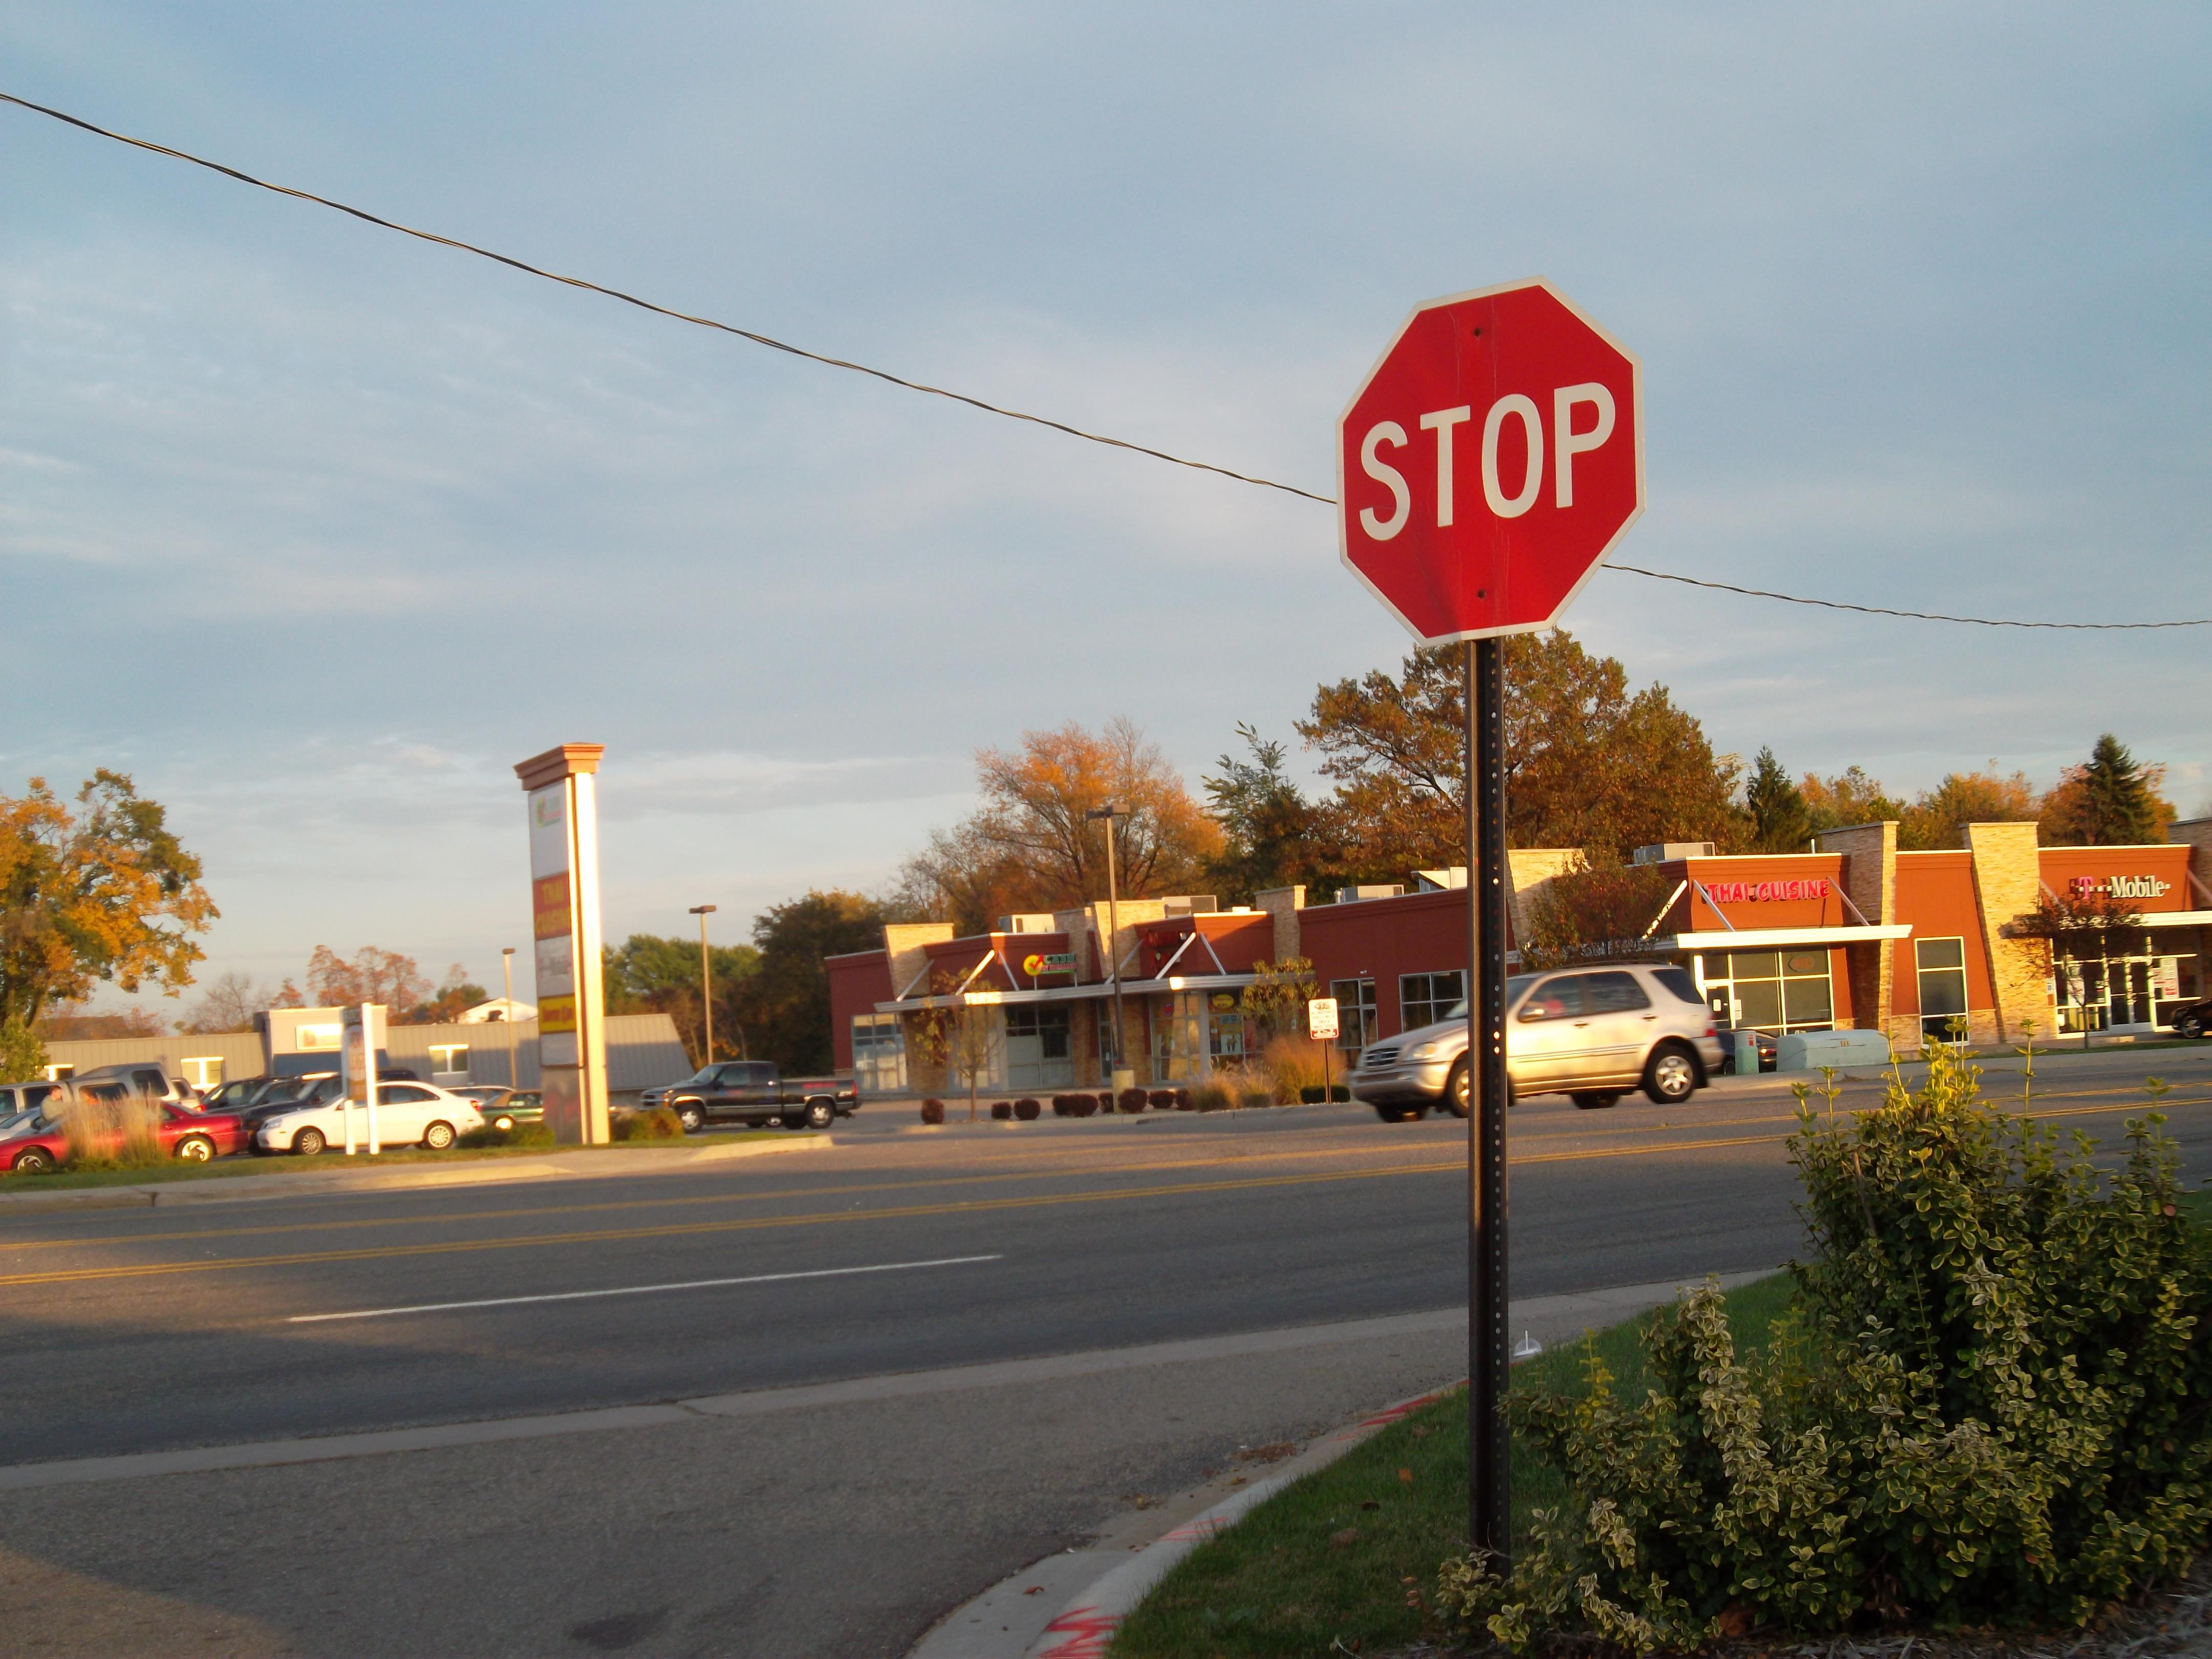stop: (1343, 291, 1651, 652)
